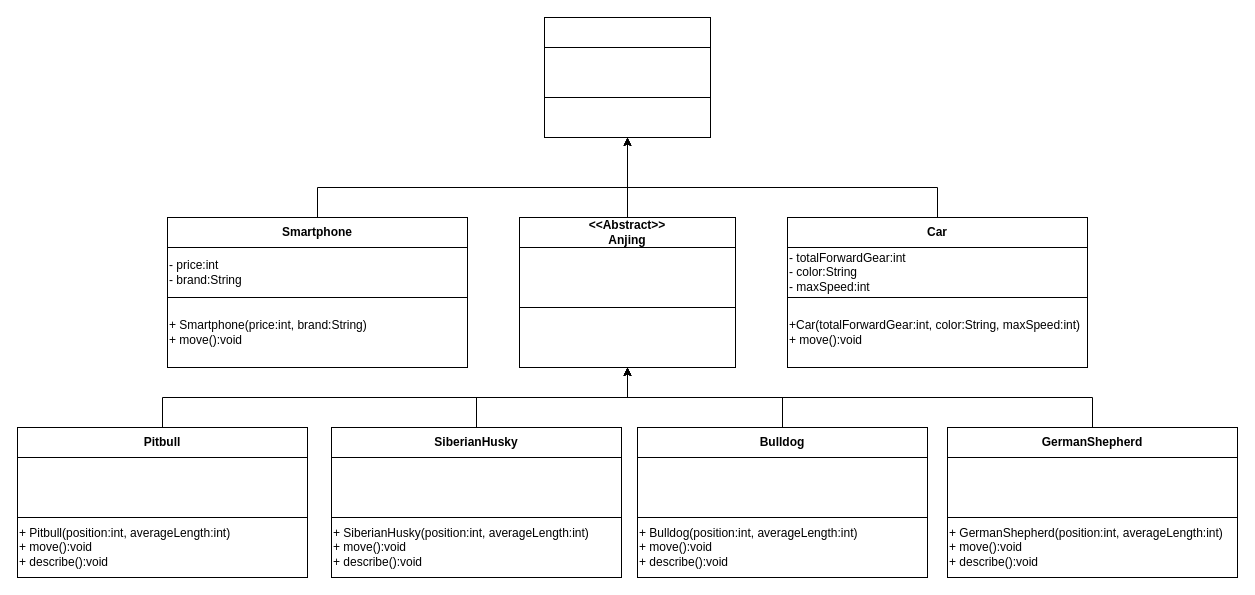
This 1255x595 diagram has some shape labels left out. Here are the shapes that lost their labels. From the top down, the box of each, then its label:
(544, 16, 710, 48): <<Interface>> Bergerak
(544, 96, 710, 138): + move():void
(518, 246, 736, 308): - position:int - averageLength:int
(518, 306, 736, 368): + Anjing(position:int, averageLength:int) + describe():void
